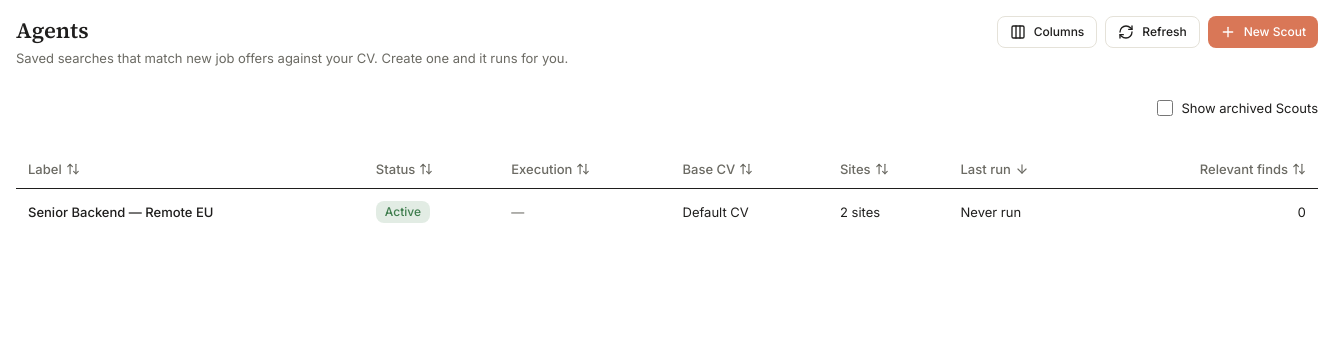
ScoutsPage — list › shows every column visible by default except id, with Label absent from the Columns menu
This screenshot has width=1335, height=339.
expect the text "Senior Backend — Remote EU" is shown: met, box [16,189,364,235]
expect the column heading "Label" is shown: met, box [16,149,364,189]
Click the button "Columns" at point(1047, 32), box [997,16,1097,48]
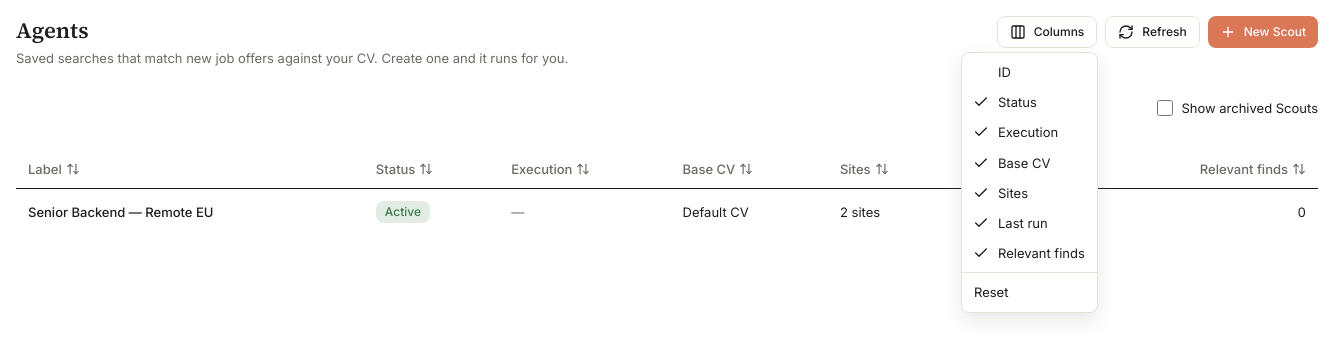
expect the menu item "ID" is shown: met, box [998,64,1011,80]
expect the menu item "Status" is shown: met, box [973,94,1037,110]
expect the menu item "Execution" is shown: met, box [973,124,1058,140]
